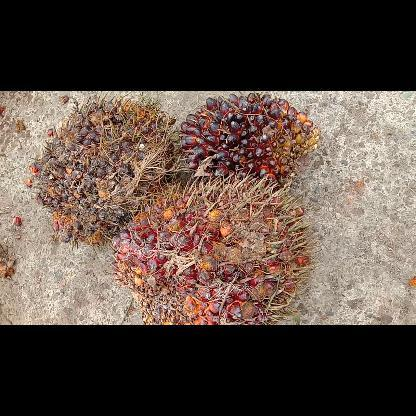Kurang masak: (31, 95, 172, 243), (177, 90, 319, 186)
TBS masak: (111, 178, 313, 324)
